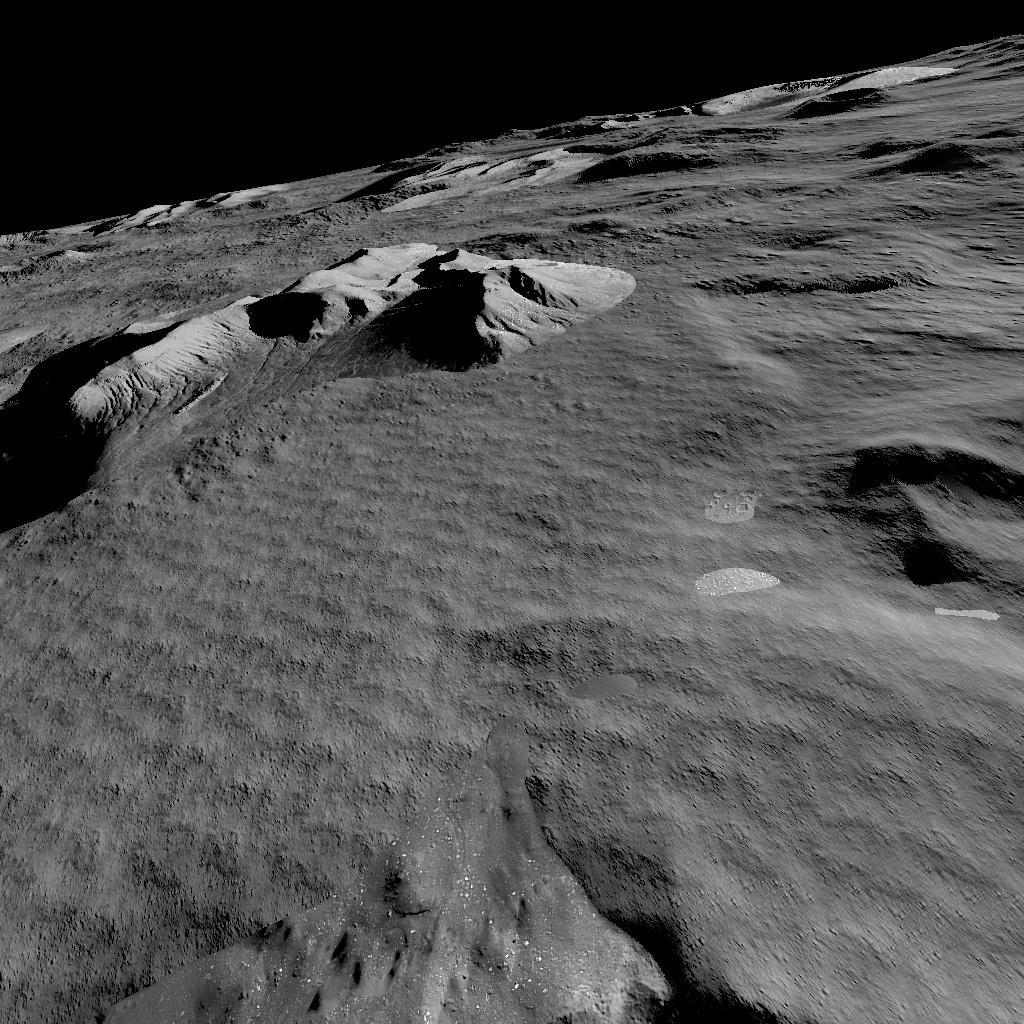Boulders: (4, 240, 636, 482), (331, 65, 987, 208), (97, 186, 286, 229)
Crater: (0, 780, 1024, 1024), (803, 424, 1024, 608), (688, 262, 920, 318)
Plan surface: (0, 513, 763, 746)
